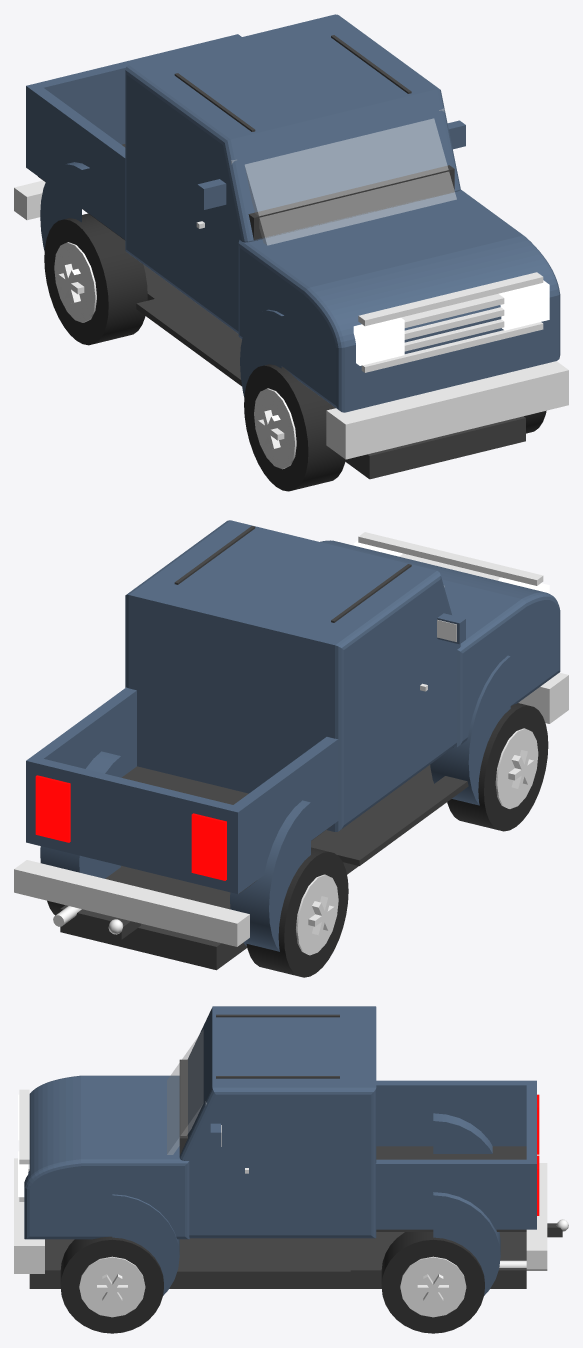
File: pick-up-truck-in-high-fidelity.gltf
3 renders of one model, top to bottom at view 1: azimuth 30°, elevation 25°; view 2: azimuth 150°, elevation 25°; view 3: azimuth 270°, elevation 25°, orthographic. The views are drawn at different scales.
Size of the model in its own units: 3.53 by 3.85 by 8.04.
